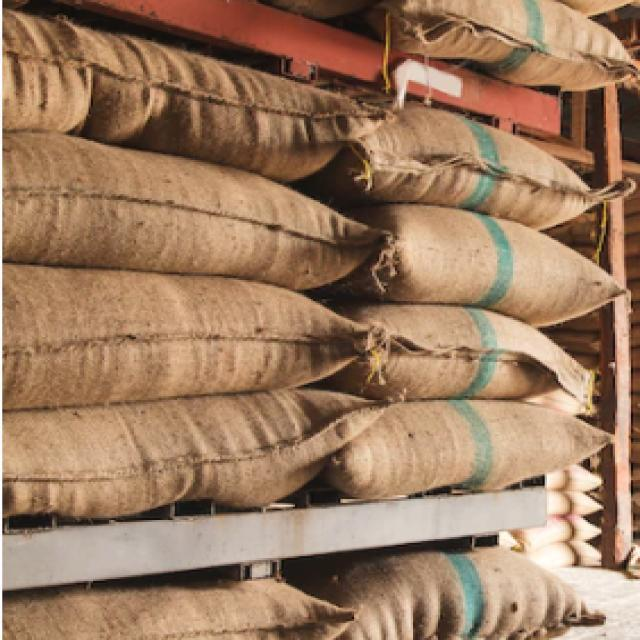gunny_bag: (0, 6, 406, 184), (0, 128, 392, 293), (0, 262, 381, 413), (2, 385, 392, 523), (2, 272, 352, 408), (313, 200, 630, 332), (320, 390, 613, 503), (296, 542, 609, 640), (361, 208, 629, 322), (329, 101, 613, 208), (312, 303, 611, 403), (365, 0, 640, 95), (2, 577, 359, 640)
